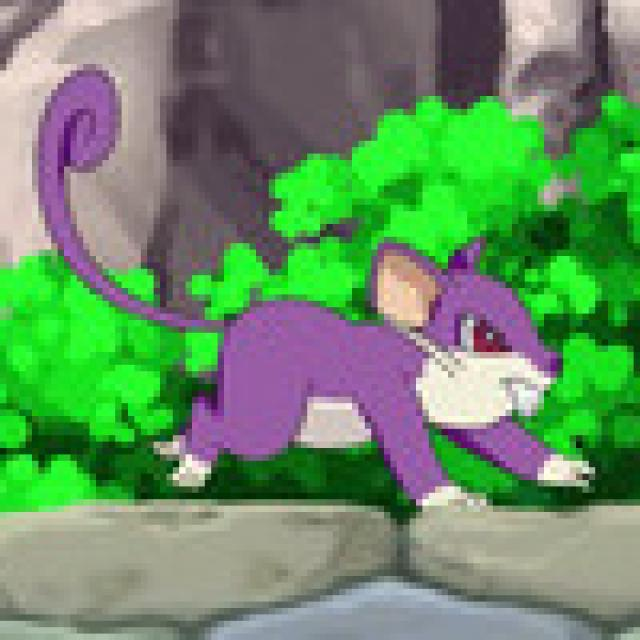Rattata: (148, 244, 556, 509)
